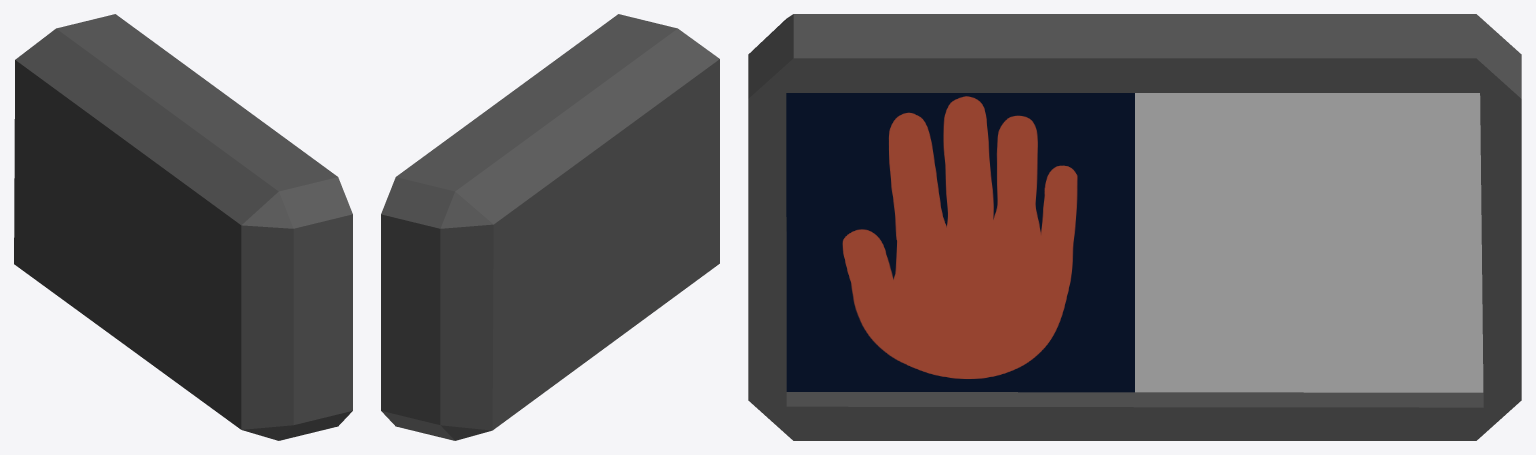
The model's file is handWithNum.fbx.
3 views of the same model, side by side, from view 1: azimuth 30°, elevation 25°; view 2: azimuth 150°, elevation 25°; view 3: azimuth 270°, elevation 25° (orthographic). The views are drawn at different scales.
Visible parts, largest first — view 1: walkLight.001; view 2: walkLight.001; view 3: walkLight.001.
Boxes of the visible parts, left/top/right/bottom form: walkLight.001: left=14, top=14, right=352, bottom=440; walkLight.001: left=381, top=14, right=719, bottom=440; walkLight.001: left=748, top=14, right=1521, bottom=440.
Bounding box in the file's own units: 49.91 × 120 × 220.
